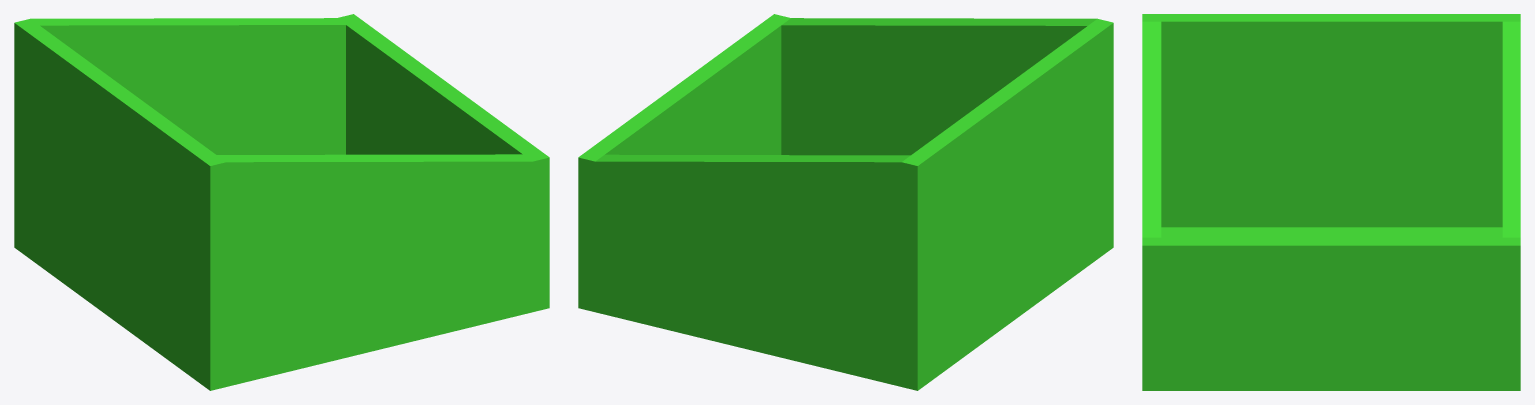
The model's file is green_target.dae.
3 renders of one model, left to right at view 1: azimuth 30°, elevation 25°; view 2: azimuth 150°, elevation 25°; view 3: azimuth 270°, elevation 25°, orthographic. The views are drawn at different scales.
Visible parts, largest first — view 1: Cube; view 2: Cube; view 3: Cube.
Part boxes in pixels (left/top/right/bottom): Cube: left=14, top=14, right=549, bottom=390; Cube: left=578, top=14, right=1113, bottom=390; Cube: left=1142, top=14, right=1520, bottom=390.
Size of the model in its own units: 0.6 by 0.6 by 0.3797.
